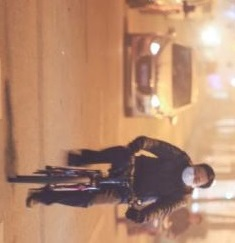person: (28, 136, 213, 224), (165, 206, 205, 235)
